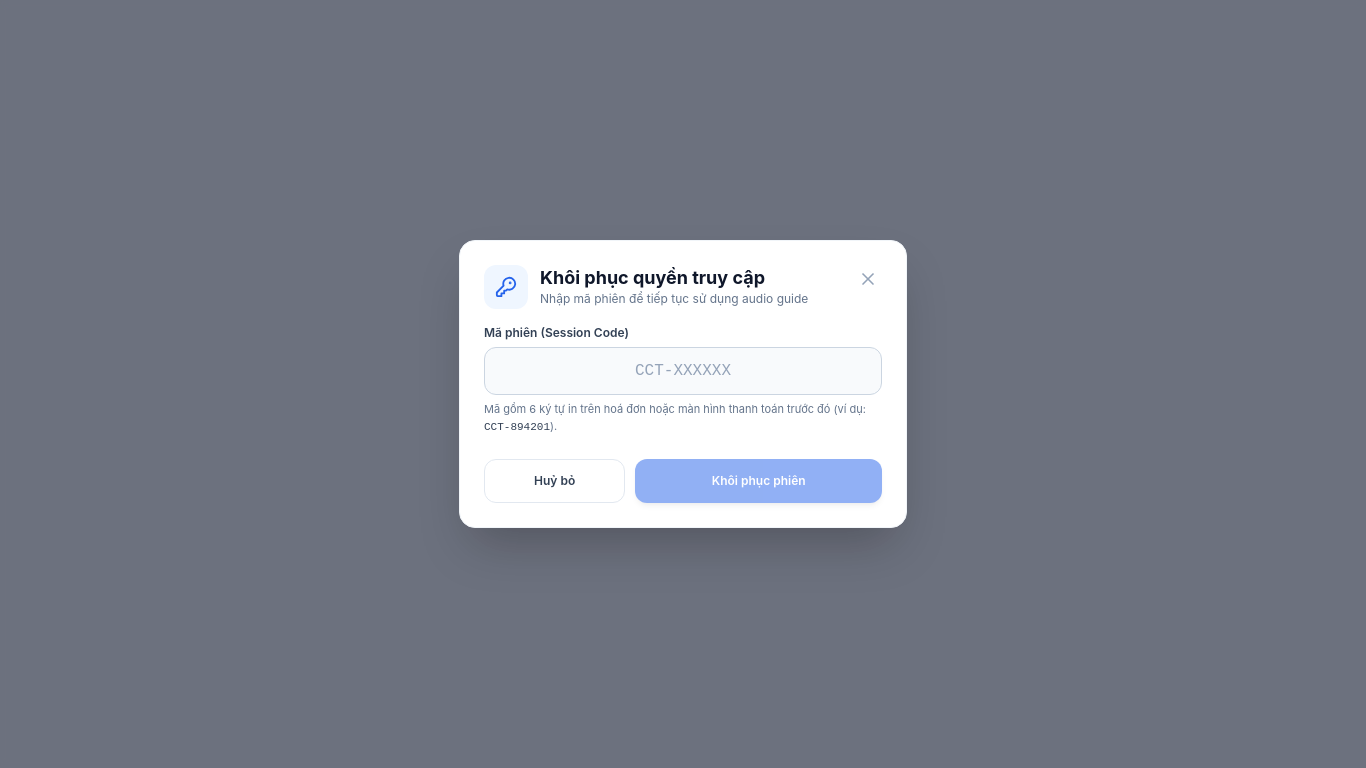
Test: RestoreSessionModal (US 06.3 - TSK-06.3.2 & TSK-06.3.3) › automatically transforms entered text to uppercase and strips spaces
The width and height of the screenshot is (1366, 768).
Step 1. Type " cct - 894 201 " into the field with placeholder "CCT-XXXXXX" → (683, 371), box [484, 347, 882, 395]
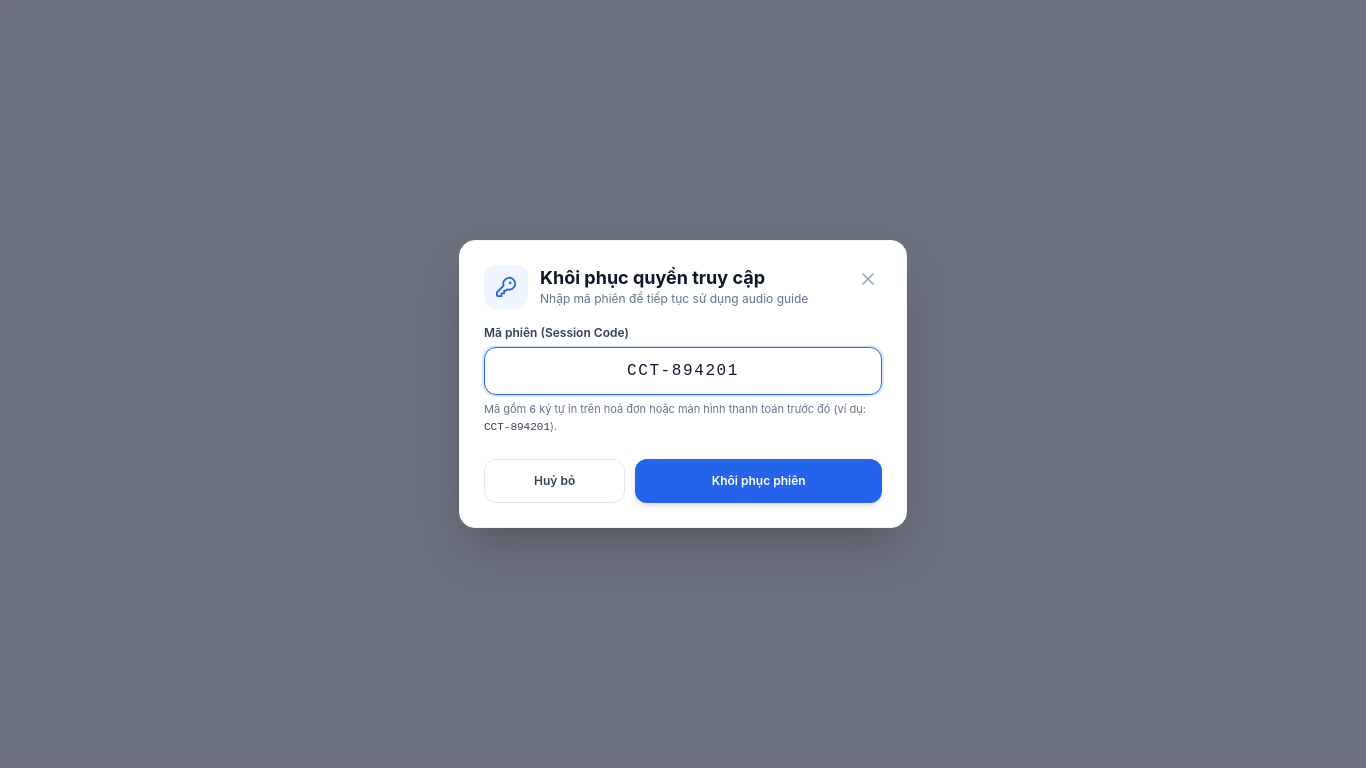
Expected: the field with placeholder "CCT-XXXXXX" holds "CCT-894201", [484, 347, 882, 395]
